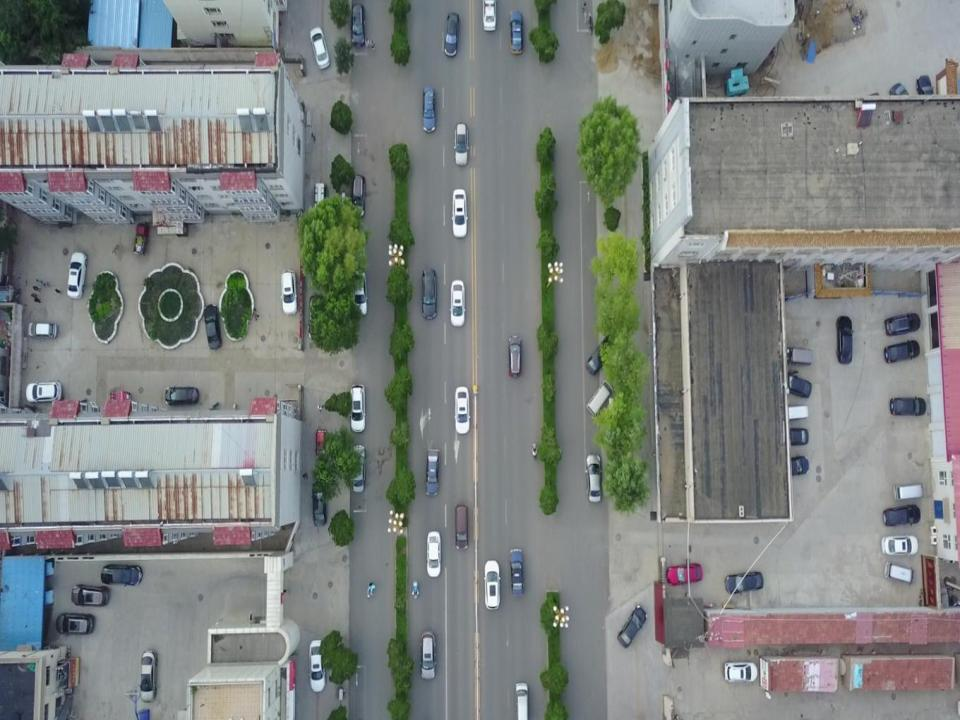car: (887, 82, 920, 127), (585, 332, 619, 374), (617, 605, 647, 649), (916, 72, 938, 124), (138, 650, 158, 702), (308, 640, 327, 692), (883, 338, 921, 364), (725, 570, 764, 595), (67, 252, 87, 300), (420, 267, 438, 320), (100, 564, 143, 586), (55, 612, 94, 636), (309, 26, 330, 70), (70, 584, 110, 607), (202, 303, 222, 349), (883, 504, 921, 528), (419, 630, 437, 680), (585, 452, 603, 502), (450, 188, 468, 238), (350, 270, 369, 317), (26, 380, 62, 404), (449, 278, 467, 326), (835, 316, 853, 364), (768, 426, 809, 447), (771, 455, 810, 477), (666, 562, 703, 585), (782, 370, 812, 398), (880, 534, 918, 556), (889, 394, 927, 416), (454, 385, 471, 434), (884, 312, 920, 335), (349, 384, 366, 432), (508, 548, 525, 596), (280, 270, 298, 314), (424, 448, 440, 497), (484, 559, 499, 611), (426, 530, 442, 578), (312, 480, 328, 526), (350, 3, 366, 48), (444, 12, 460, 57), (723, 661, 757, 682), (454, 503, 469, 550), (165, 385, 199, 405), (454, 122, 469, 166), (509, 10, 524, 54), (352, 444, 365, 492), (508, 334, 522, 378), (351, 174, 365, 217), (423, 86, 436, 132), (28, 319, 57, 338), (314, 428, 328, 462), (482, 0, 496, 32)
truck: (133, 223, 149, 255)
van: (586, 379, 614, 416), (883, 562, 916, 584), (893, 481, 925, 502), (784, 346, 813, 366), (777, 404, 808, 421), (515, 682, 528, 720)
